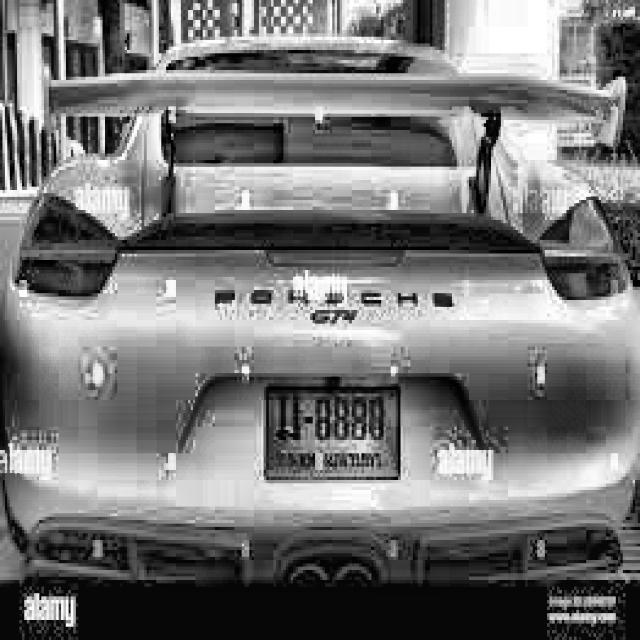license-plate: (264, 385, 402, 483)
